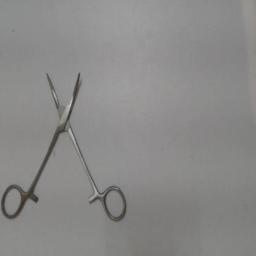Crile Artery Forceps: (1, 66, 129, 228)
